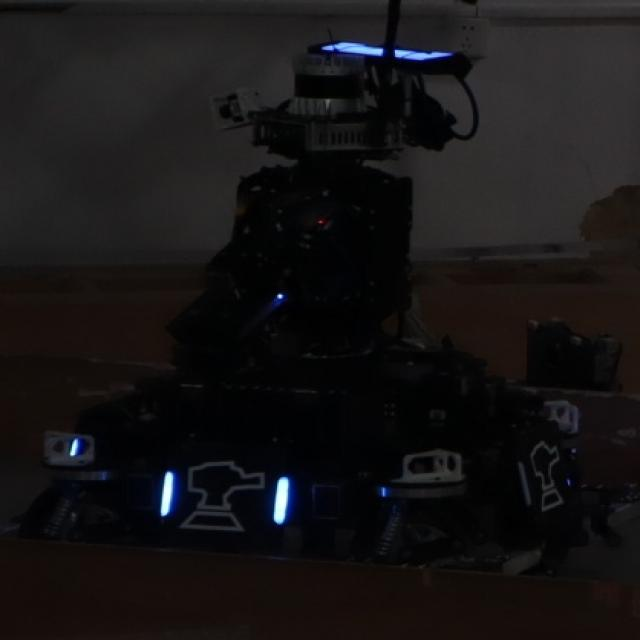Bs: (153, 448, 289, 543)
